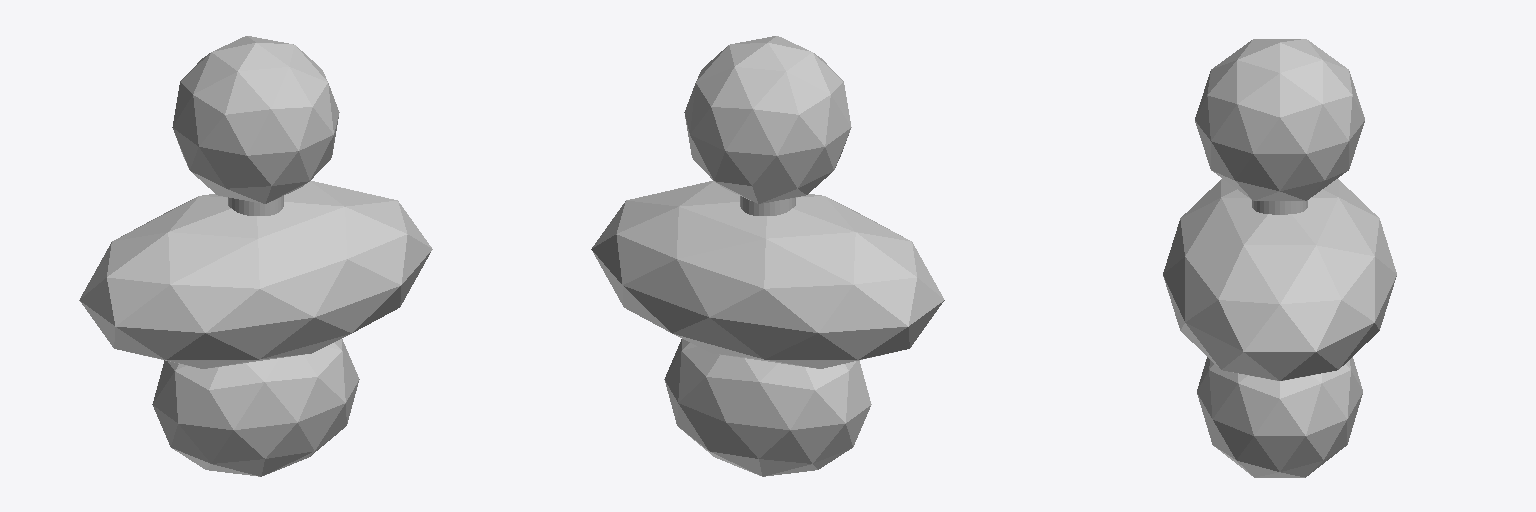
The model's file is grouped.obj.
The picture shows the model from 3 angles: view 1: azimuth 30°, elevation 25°; view 2: azimuth 150°, elevation 25°; view 3: azimuth 270°, elevation 25°; orthographic projection.
Visible parts, largest first — view 1: Icosphere.001, Icosphere, Icosphere.002, Cylinder; view 2: Icosphere.001, Icosphere, Icosphere.002, Cylinder; view 3: Icosphere.001, Icosphere, Icosphere.002, Cylinder.
Boxes of the visible parts, <box> form: Icosphere.001: <box>79,181,432,368</box>; Icosphere: <box>172,36,339,203</box>; Icosphere.002: <box>152,339,359,476</box>; Cylinder: <box>228,196,283,215</box>; Icosphere.001: <box>591,181,944,368</box>; Icosphere: <box>684,36,851,203</box>; Icosphere.002: <box>664,339,871,476</box>; Cylinder: <box>740,196,795,215</box>; Icosphere.001: <box>1163,179,1396,380</box>; Icosphere: <box>1195,39,1364,200</box>; Icosphere.002: <box>1197,357,1362,477</box>; Cylinder: <box>1252,200,1307,214</box>.
Bounding box in the file's own units: 4.29 × 5.51 × 2.75.